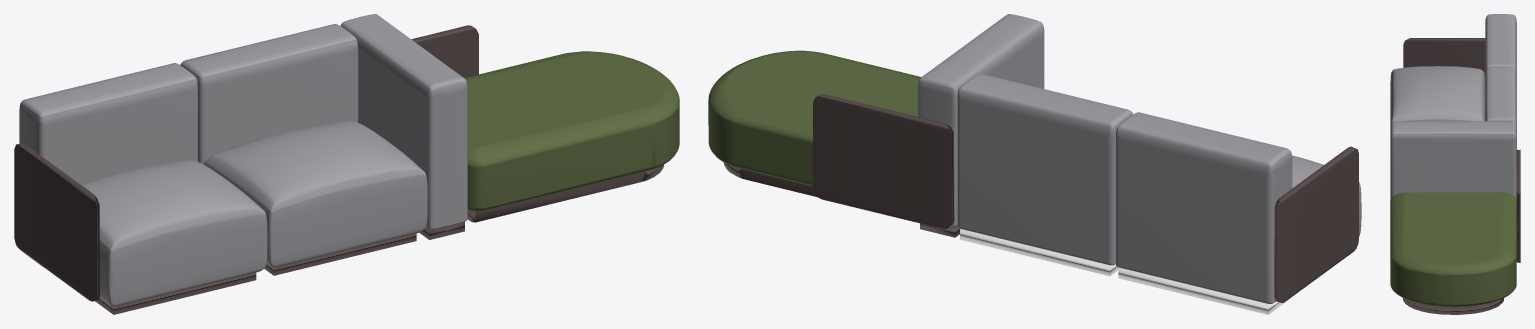
File: sofa-modelo-duplo-chaise-lat.glb
3 views of the same model, side by side, from view 1: azimuth 30°, elevation 25°; view 2: azimuth 150°, elevation 25°; view 3: azimuth 270°, elevation 25° (orthographic). The views are drawn at different scales.
Visible parts, largest first — view 1: Modelo Duplo Chaise Lat; view 2: Modelo Duplo Chaise Lat; view 3: Modelo Duplo Chaise Lat.
Part boxes in pixels (x1,y1,x2,y2): Modelo Duplo Chaise Lat: (14,14,679,314); Modelo Duplo Chaise Lat: (708,14,1361,314); Modelo Duplo Chaise Lat: (1390,14,1520,314).
Bounding box in the file's own units: 3.03 × 0.7401 × 0.8237.
